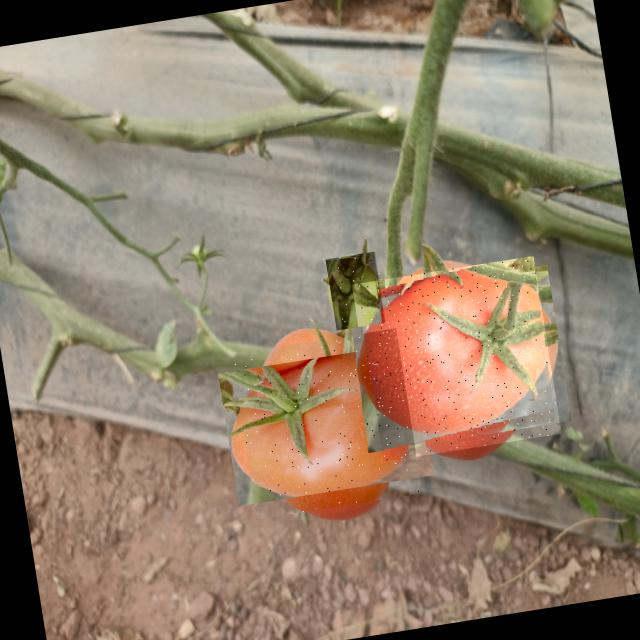Ripe Tomato: (356, 256, 562, 462), (232, 328, 422, 519)
Unripe Tomato: (326, 252, 389, 331)
